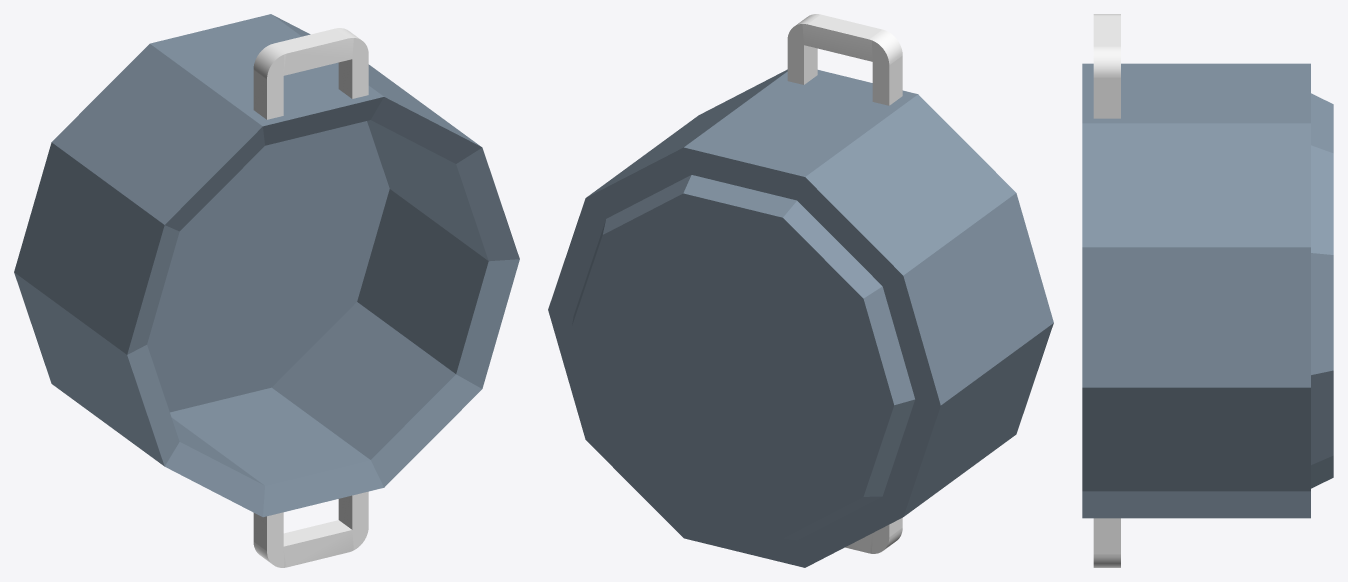
File: potCollider.obj
3 renders of one model, left to right at view 1: azimuth 30°, elevation 25°; view 2: azimuth 150°, elevation 25°; view 3: azimuth 270°, elevation 25°, orthographic.
Parts seen in each view (by area): view 1: potCollider.011, potCollider.004, potCollider.005, potCollider.009, potCollider.010, potCollider.008, potCollider.006, potCollider.003, potCollider.001, potCollider.002, potCollider.007, potCollider.015 (+5 smaller); view 2: potCollider.011, potCollider.004, potCollider.005, potCollider.003, potCollider.006, potCollider.002, potCollider.007, potCollider.001, potCollider.008, potCollider.015, potCollider.010, potCollider.009 (+3 smaller); view 3: potCollider.001, potCollider.002, potCollider.010, potCollider.003, potCollider.011, potCollider.009, potCollider.016, potCollider.014, potCollider.015.
Boxes of the visible parts, left/top/right/bottom form: potCollider.011: left=147, top=121, right=389, bottom=412; potCollider.004: left=52, top=44, right=264, bottom=231; potCollider.005: left=14, top=142, right=179, bottom=354; potCollider.009: left=272, top=302, right=481, bottom=487; potCollider.010: left=357, top=189, right=519, bottom=388; potCollider.008: left=170, top=387, right=383, bottom=517; potCollider.006: left=14, top=272, right=179, bottom=466; potCollider.003: left=150, top=14, right=383, bottom=145; potCollider.001: left=367, top=120, right=519, bottom=261; potCollider.002: left=273, top=15, right=481, bottom=163; potCollider.007: left=165, top=418, right=264, bottom=516; potCollider.015: left=271, top=28, right=353, bottom=75; potCollider.011: left=572, top=175, right=915, bottom=540; potCollider.004: left=797, top=94, right=1015, bottom=286; potCollider.005: left=882, top=193, right=1053, bottom=405; potCollider.003: left=684, top=70, right=917, bottom=200; potCollider.006: left=882, top=323, right=1053, bottom=516; potCollider.002: left=586, top=69, right=787, bottom=218; potCollider.007: left=797, top=496, right=902, bottom=567; potCollider.001: left=548, top=198, right=605, bottom=315; potCollider.008: left=684, top=516, right=804, bottom=567; potCollider.015: left=802, top=14, right=884, bottom=61; potCollider.010: left=548, top=310, right=601, bottom=439; potCollider.009: left=586, top=431, right=690, bottom=537; potCollider.001: left=1082, top=247, right=1310, bottom=387; potCollider.002: left=1082, top=123, right=1310, bottom=247; potCollider.010: left=1082, top=387, right=1310, bottom=491; potCollider.003: left=1082, top=63, right=1310, bottom=123; potCollider.011: left=1311, top=93, right=1333, bottom=488; potCollider.009: left=1082, top=491, right=1310, bottom=518; potCollider.016: left=1093, top=49, right=1120, bottom=118; potCollider.014: left=1093, top=518, right=1120, bottom=567; potCollider.015: left=1093, top=15, right=1120, bottom=49.
Bounding box in the file's own units: 0.3287 × 0.411 × 0.1804.
